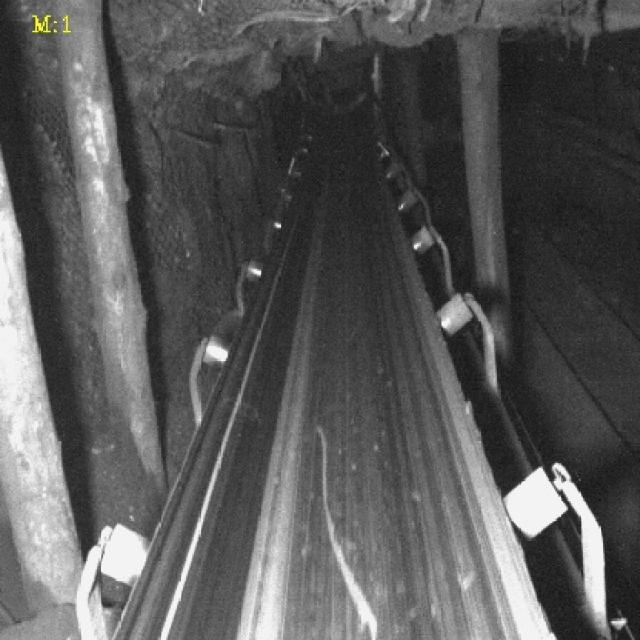bolt: (311, 423, 380, 640)
